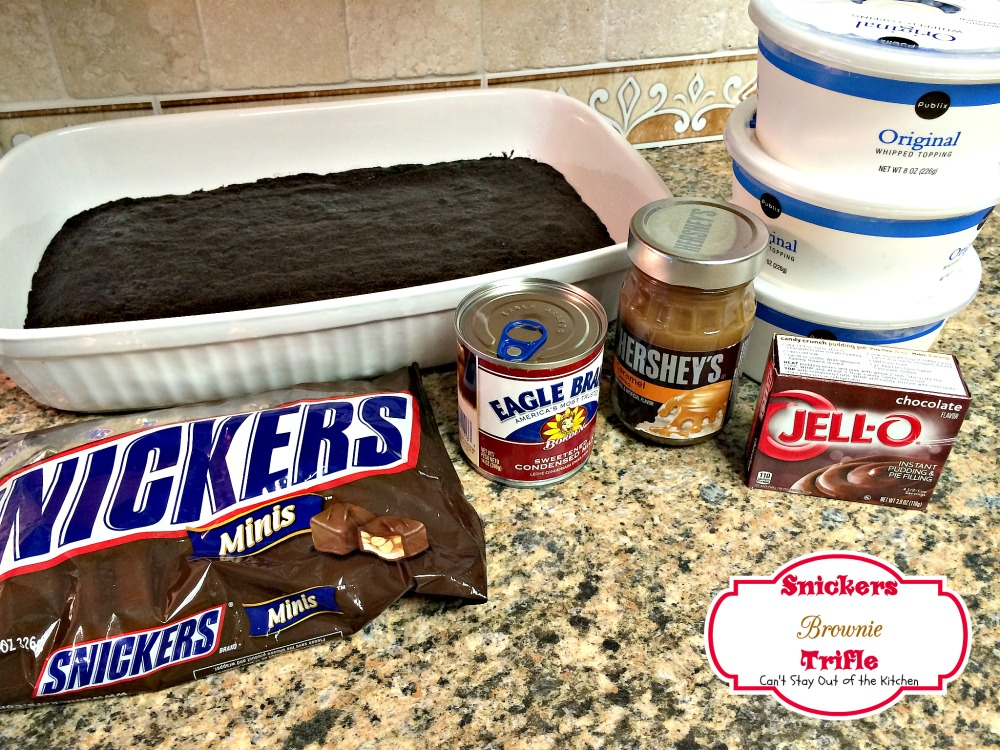snickers: (0, 396, 407, 560), (41, 608, 217, 692)
